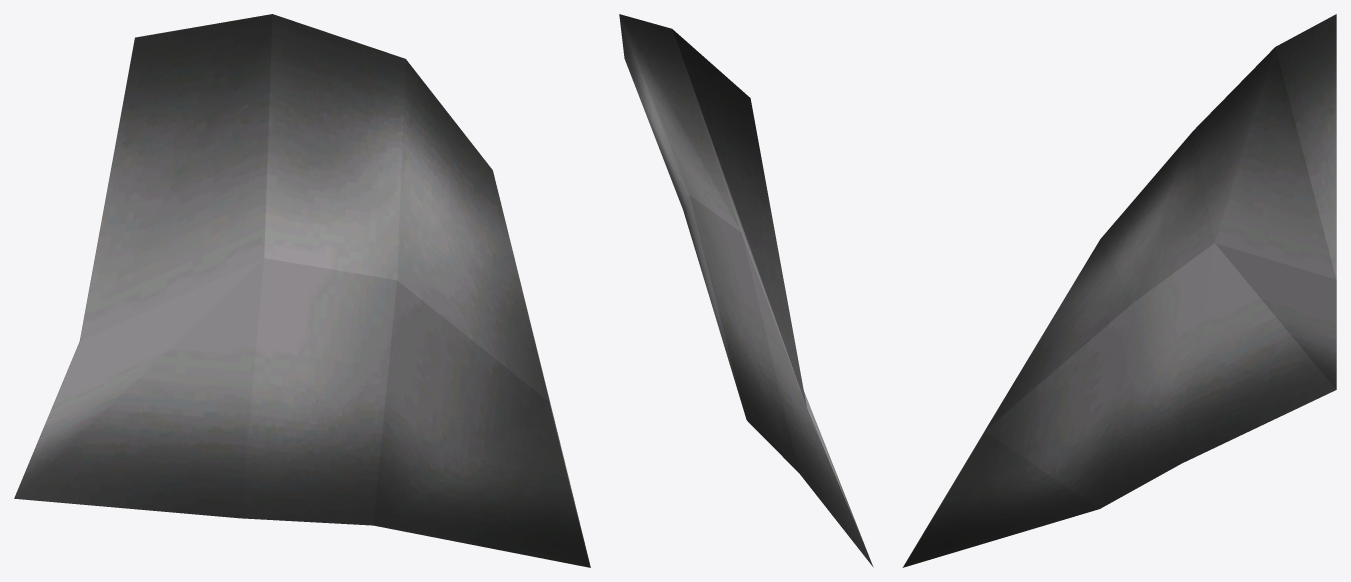
Rendered from cobweb4.fbx.
3 renders of one model, left to right at view 1: azimuth 30°, elevation 25°; view 2: azimuth 150°, elevation 25°; view 3: azimuth 270°, elevation 25°, orthographic.
Parts seen in each view (by area): view 1: obj0.021; view 2: obj0.021; view 3: obj0.021.
Part boxes in pixels (box(x1,y1,x2,y2)): obj0.021: box(14, 14, 590, 567); obj0.021: box(619, 14, 873, 567); obj0.021: box(902, 14, 1336, 567).
Size of the model in its own units: 2.18 by 2.6 by 2.24.
